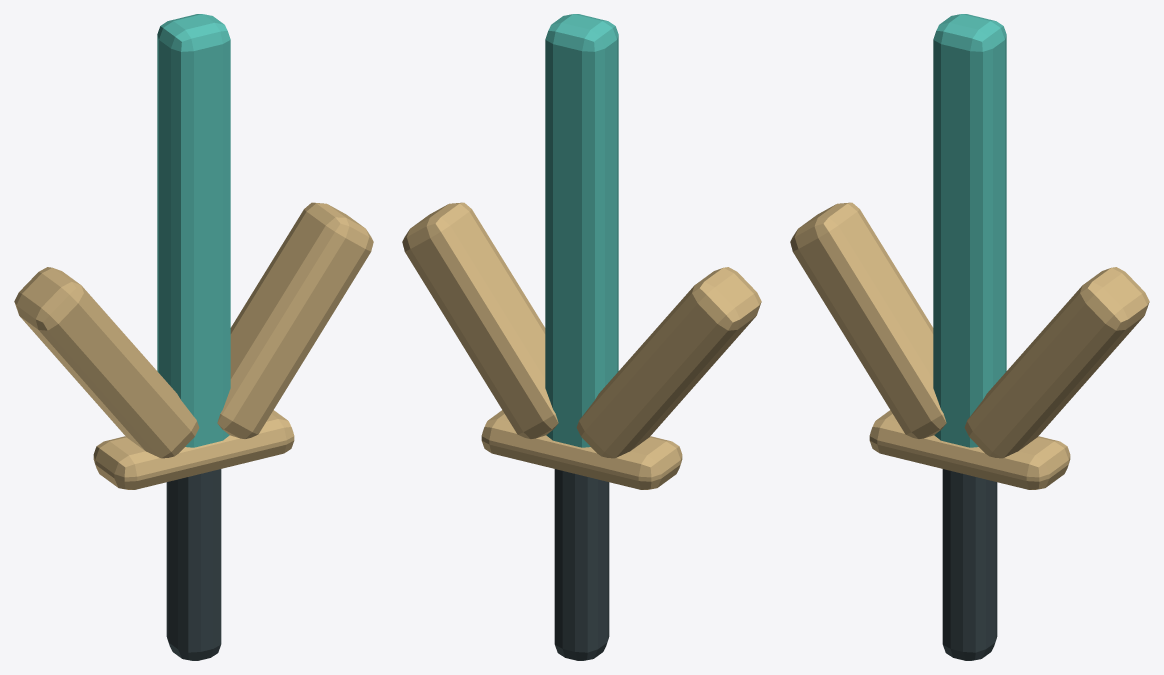
The model's file is arm_anchor_weapon.glb.
The picture shows the model from 3 angles, left to right: view 1: azimuth 30°, elevation 25°; view 2: azimuth 150°, elevation 25°; view 3: azimuth 330°, elevation 25°; orthographic projection.
Parts seen in each view (by area): view 1: arm_anchor_weapon; view 2: arm_anchor_weapon; view 3: arm_anchor_weapon.
Boxes of the visible parts, x1,y1,x2,y2 form: arm_anchor_weapon: (14, 14, 373, 660); arm_anchor_weapon: (402, 14, 761, 660); arm_anchor_weapon: (790, 14, 1149, 660).
Size of the model in its own units: 0.8095 by 1.46 by 0.15.
